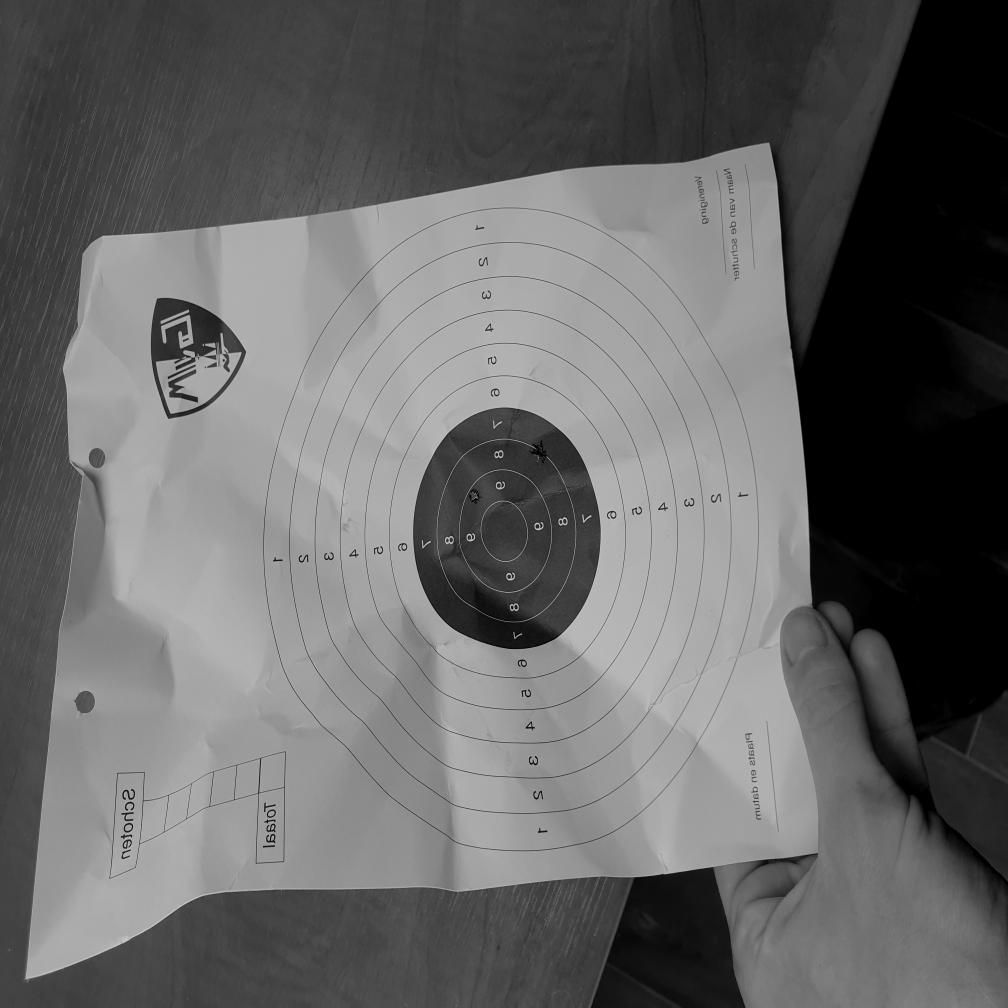8: (528, 440, 548, 467)
9: (468, 488, 483, 506)
Target: (266, 209, 760, 858)
black_contour: (412, 406, 602, 652)
